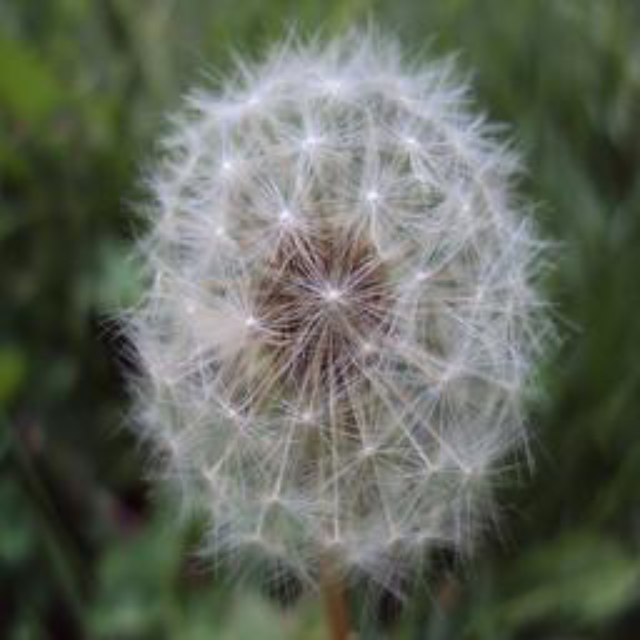dandelion: (104, 25, 576, 596)
